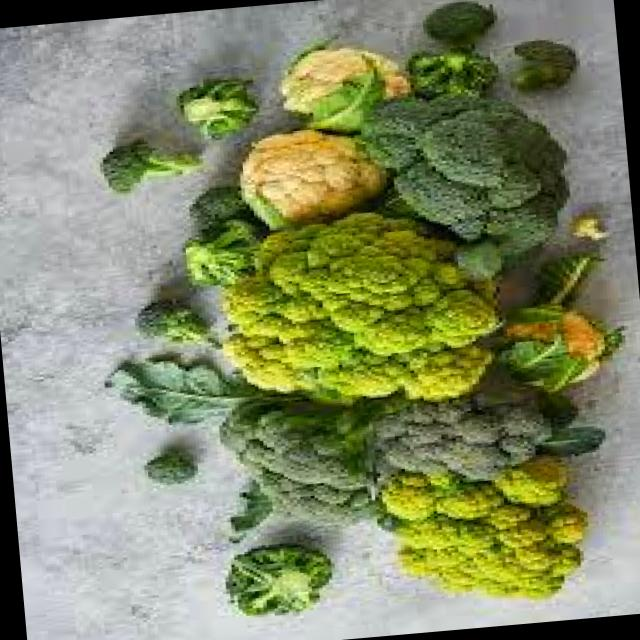broccoli: (206, 361, 606, 516), (370, 52, 598, 254), (96, 61, 272, 198), (123, 174, 261, 348), (387, 0, 597, 99), (210, 520, 366, 626), (133, 442, 203, 500)
cayliflower: (188, 204, 504, 420), (384, 470, 606, 628), (228, 129, 392, 241), (262, 30, 426, 132)
